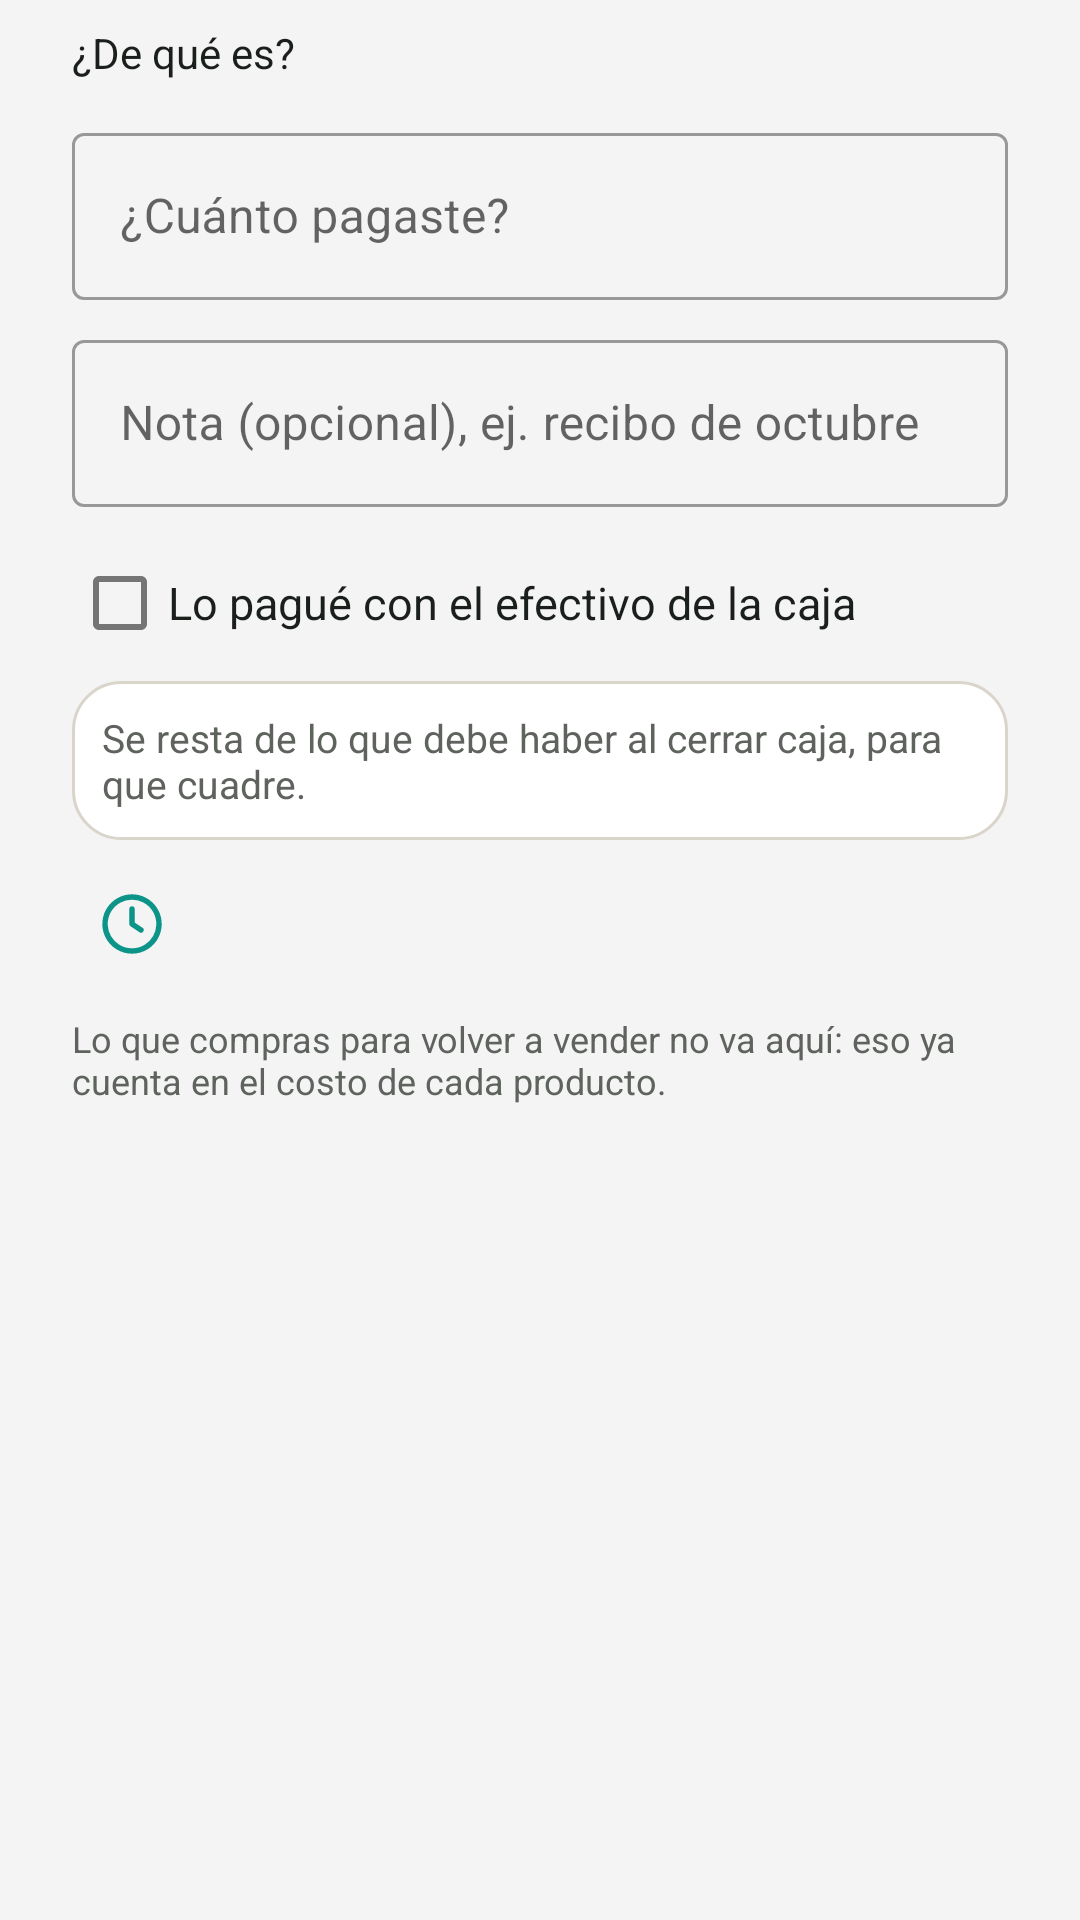

Icon click points for this 1080x1920 phone screenshot, format point (x, y):
reloj: point (132, 924)
